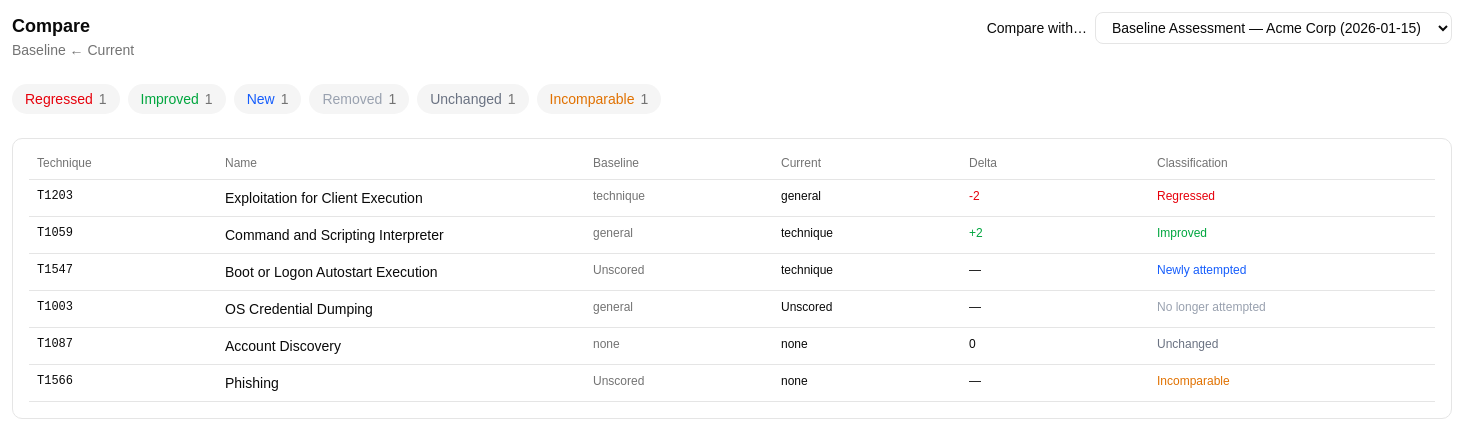
ComparePage › toggling filter shows all rows again
Click the text "Improved". click: (170, 99)
box: 140,89 -> 199,109
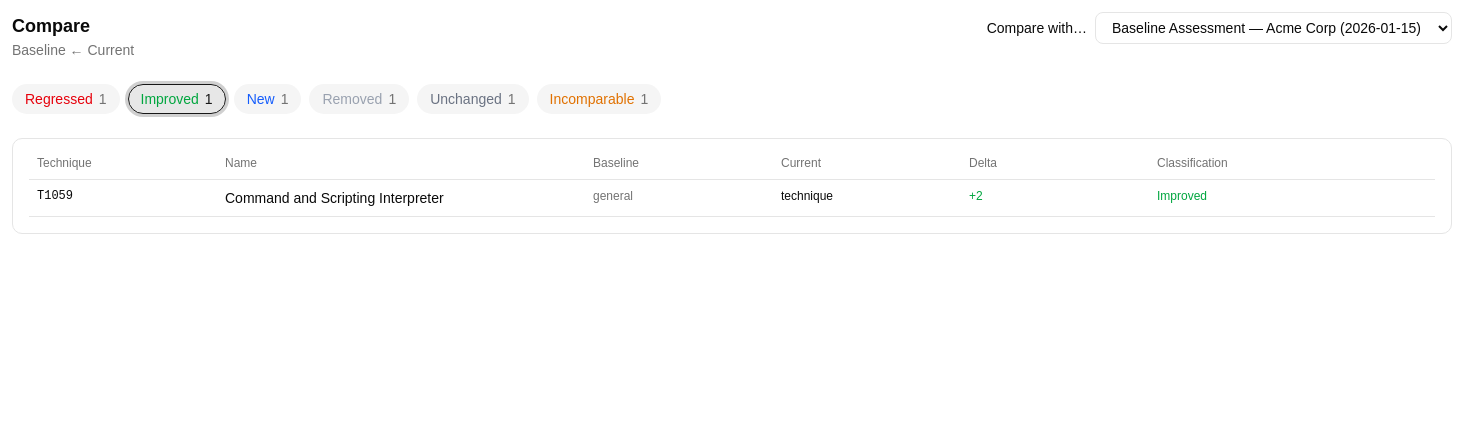
Click the text "Improved". click: (170, 99)
box: 140,89 -> 199,109
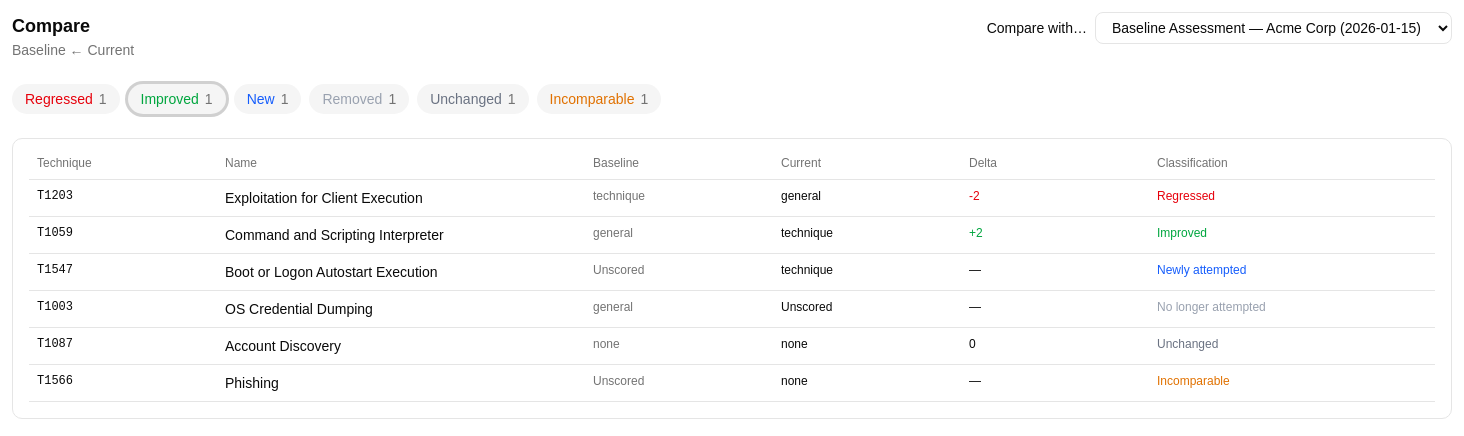
Now the number of rows is 6, box 29,180 -> 1435,217; 29,217 -> 1435,254; 29,254 -> 1435,291; 29,291 -> 1435,328; 29,328 -> 1435,365; 29,365 -> 1435,402
